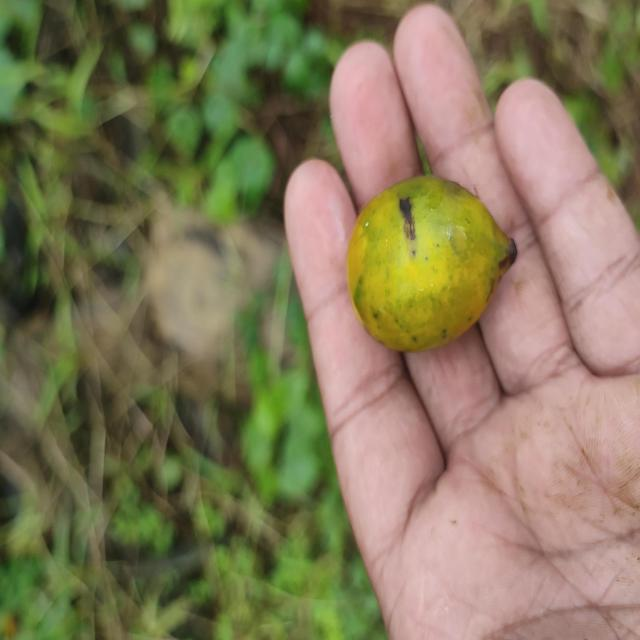good: (345, 174, 518, 355)
